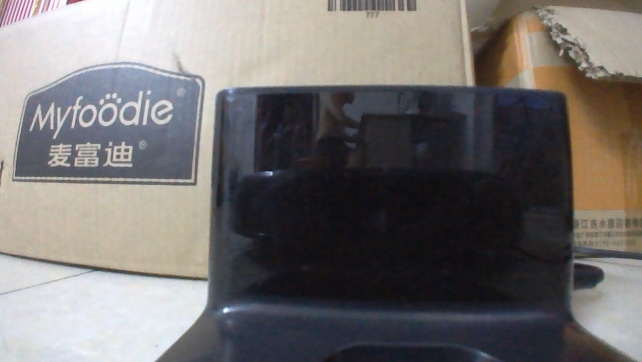wire: (570, 243, 641, 294)
